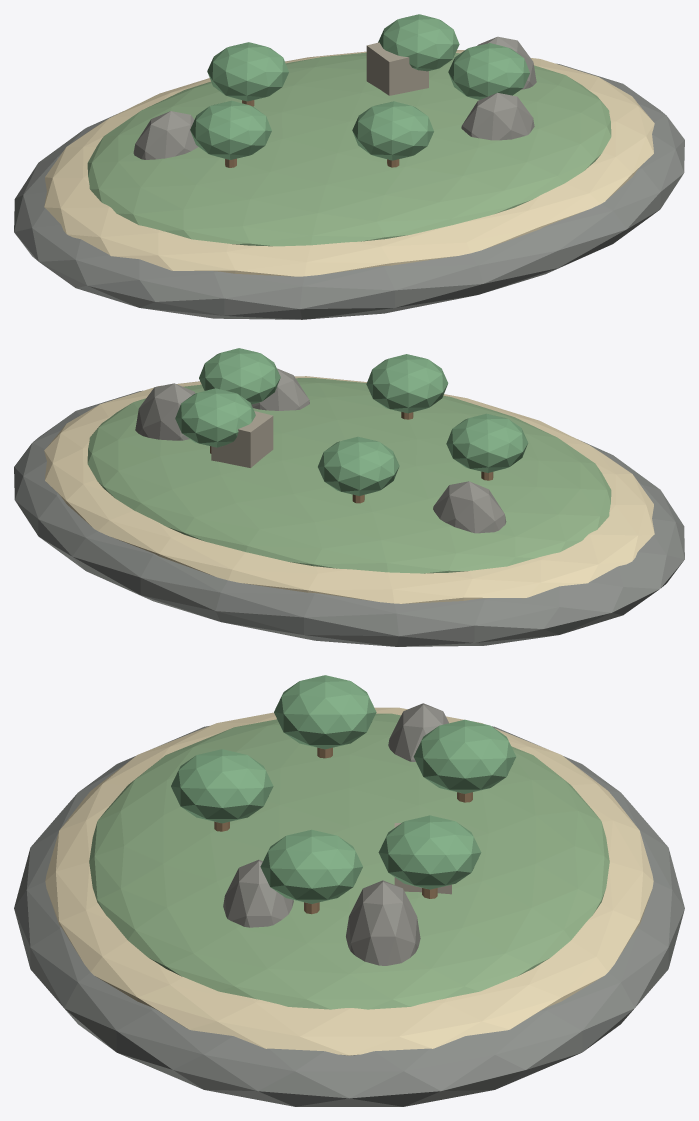
Rendered from island_cliff_cove_m201.glb.
3 views of the same model, one above another, from view 1: azimuth 30°, elevation 25°; view 2: azimuth 150°, elevation 25°; view 3: azimuth 270°, elevation 25° (orthographic). The views are drawn at different scales.
Parts seen in each view (by area): view 1: Ground, Rock, Sand, Foliage3, Foliage1, Foliage2, Foliage0, Foliage4, Cliff1, Cliff0, RuinTower, Cliff2; view 2: Ground, Rock, Sand, Foliage1, Foliage2, Foliage3, Foliage4, Foliage0, Cliff0, Cliff2, RuinTower, Cliff1; view 3: Ground, Rock, Sand, Foliage3, Foliage1, Foliage2, Foliage0, Foliage4, Cliff2, Cliff1, Cliff0.
Part boxes in pixels (x1,y1,x2,y2): Ground: [87, 52, 611, 246]; Rock: [14, 63, 684, 319]; Sand: [44, 50, 654, 276]; Foliage3: [207, 42, 288, 101]; Foliage1: [352, 101, 433, 160]; Foliage2: [190, 100, 271, 159]; Foliage0: [448, 43, 529, 99]; Foliage4: [378, 14, 459, 71]; Cliff1: [461, 93, 534, 140]; Cliff0: [133, 111, 198, 159]; RuinTower: [366, 42, 428, 95]; Cliff2: [477, 36, 536, 89]; Ground: [87, 378, 611, 573]; Rock: [14, 390, 684, 646]; Sand: [44, 376, 654, 603]; Foliage1: [366, 354, 448, 413]; Foliage2: [446, 413, 527, 472]; Foliage3: [318, 436, 399, 495]; Foliage4: [175, 388, 255, 447]; Foliage0: [199, 348, 280, 404]; Cliff0: [433, 481, 506, 533]; Cliff2: [135, 383, 195, 440]; RuinTower: [211, 411, 273, 467]; Cliff1: [251, 368, 309, 410]; Ground: [89, 713, 609, 1009]; Rock: [14, 726, 684, 1106]; Sand: [45, 707, 653, 1055]; Foliage3: [413, 719, 516, 793]; Foliage1: [171, 749, 273, 823]; Foliage2: [274, 675, 376, 749]; Foliage0: [260, 829, 362, 903]; Foliage4: [378, 815, 481, 889]; Cliff2: [346, 880, 420, 965]; Cliff1: [223, 859, 293, 927]; Cliff0: [388, 703, 448, 761].
Bounding box in the file's own units: 12.6 × 3.33 × 9.4.
